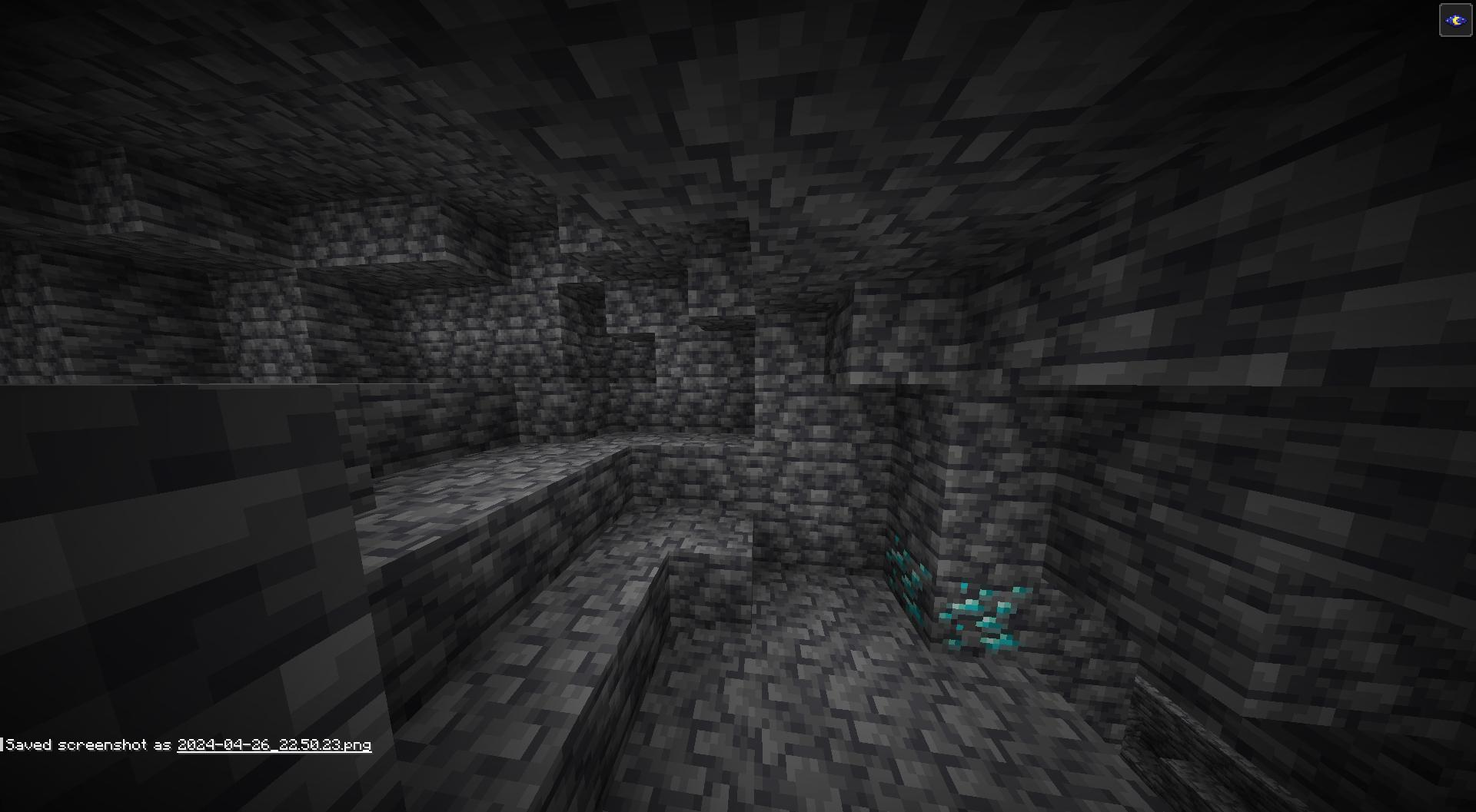diamond ore: (942, 574, 1037, 660), (883, 532, 936, 630)
